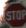Stop sign: (0, 0, 25, 27)
